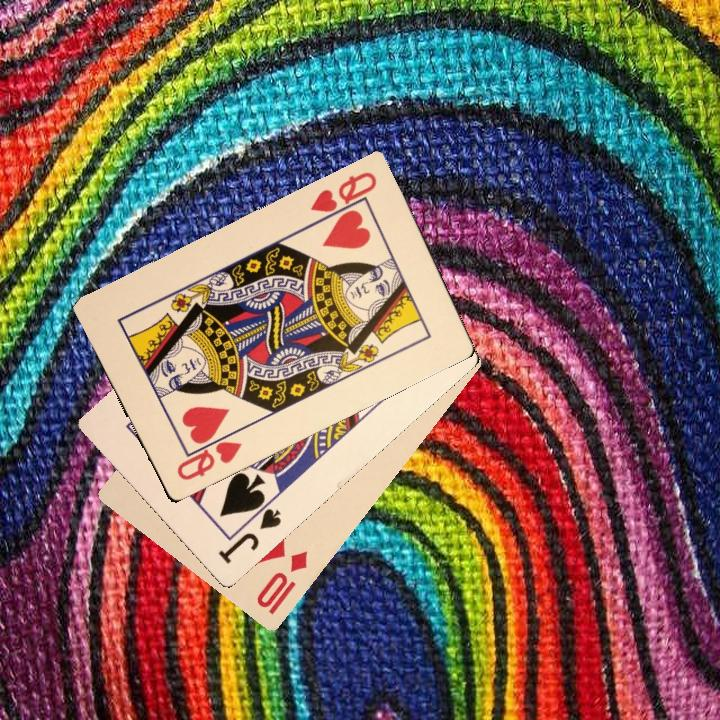10d: (252, 546, 311, 618)
Js: (213, 498, 284, 567)
Qh: (306, 167, 380, 227), (172, 426, 244, 483)
